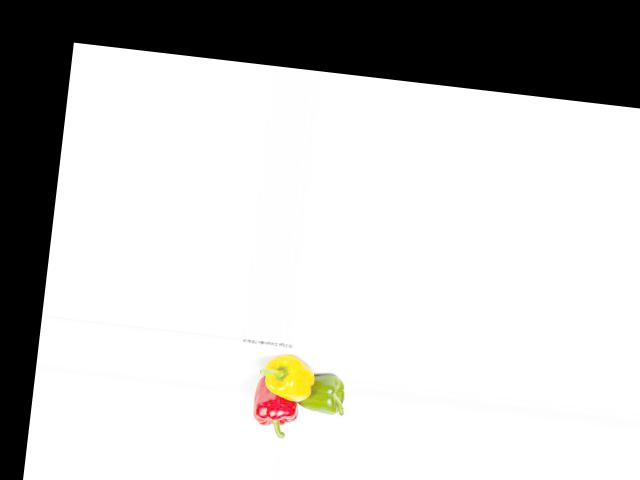bell_pepper: (245, 377, 301, 439)
